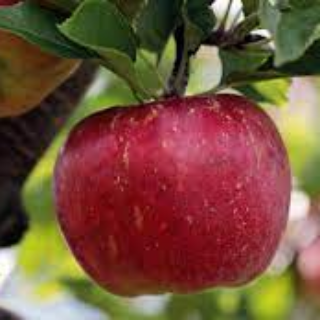tao: (49, 87, 295, 302)
